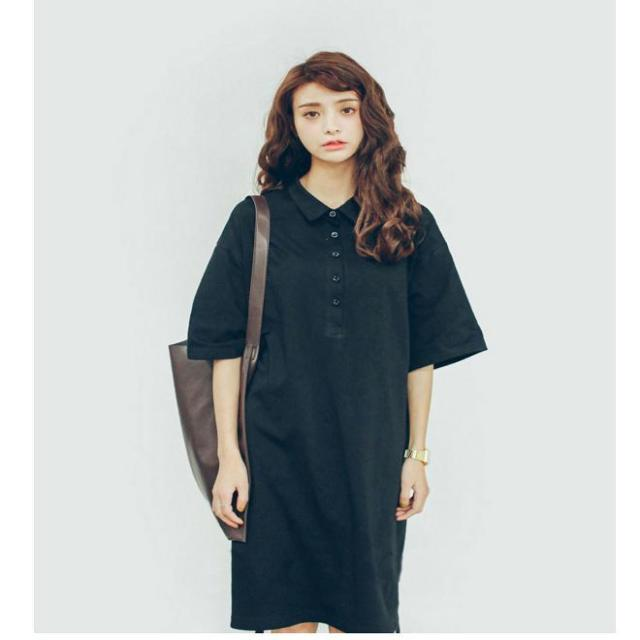short sleeve dress: (190, 183, 491, 631)
